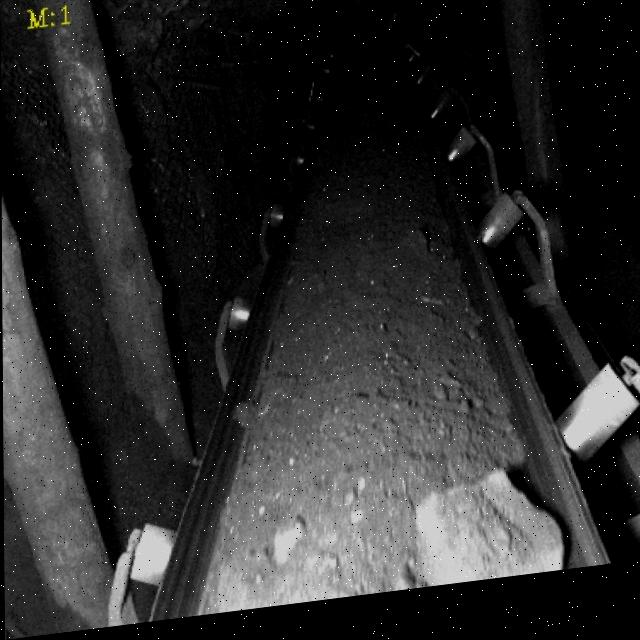large_sized_coal: (415, 473, 566, 599)
